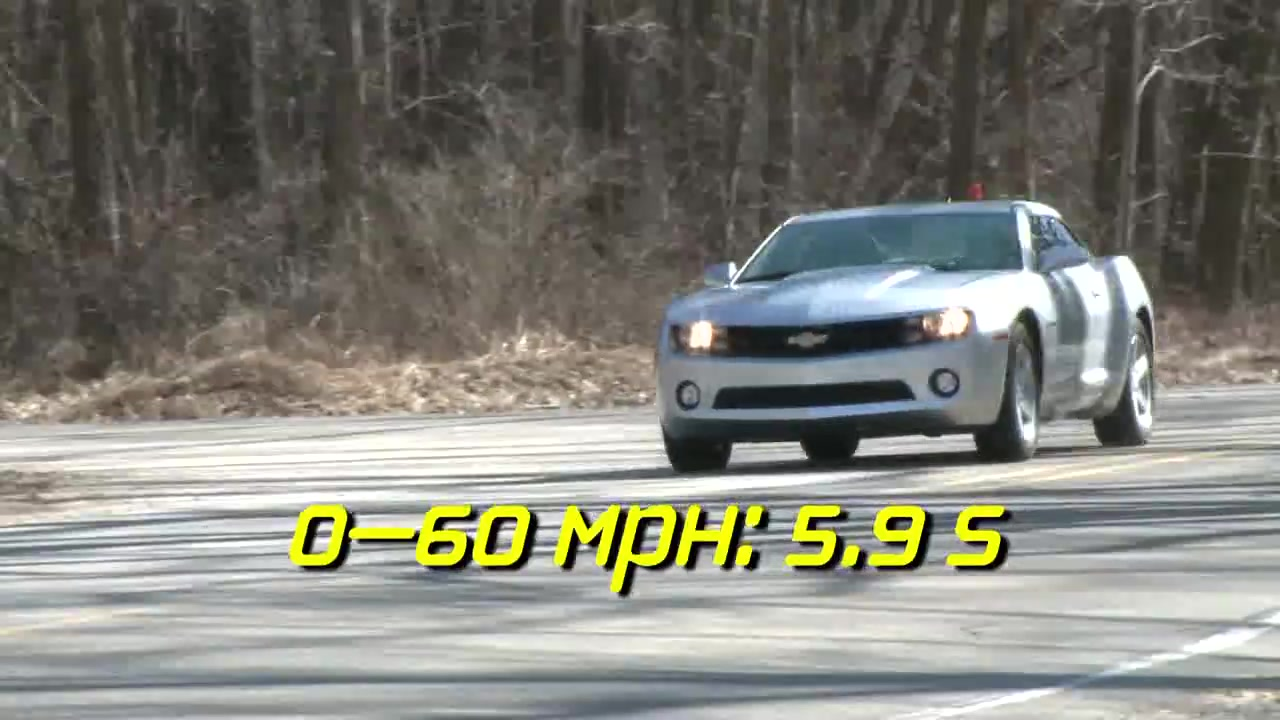car: (655, 198, 1161, 473)
